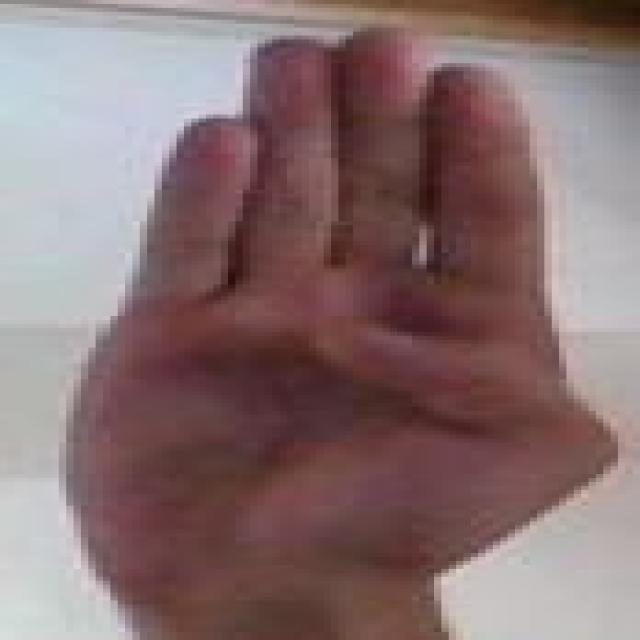B: (18, 13, 637, 632)
